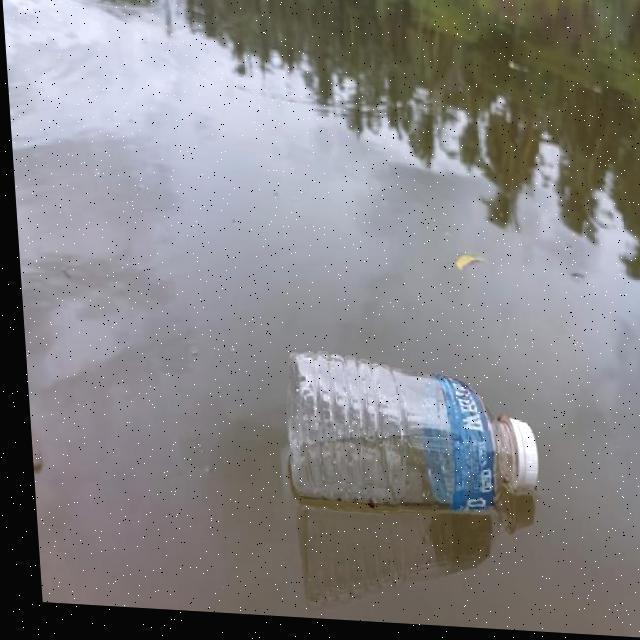Bottle: (280, 340, 546, 520)
